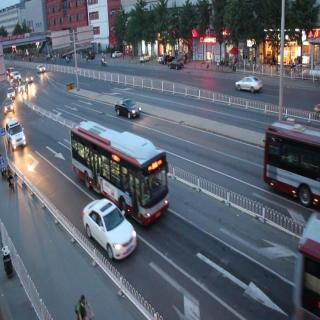BigCar: (69, 122, 171, 223), (263, 107, 320, 213)
Car: (78, 200, 138, 264), (5, 117, 27, 154), (114, 96, 142, 119), (235, 74, 265, 94), (168, 58, 186, 70), (4, 98, 15, 117), (36, 64, 47, 74), (112, 51, 124, 60)
